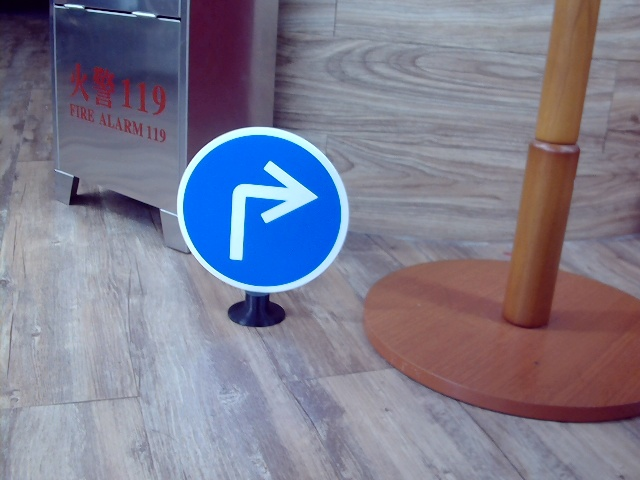turn_right: (223, 157, 311, 269)
